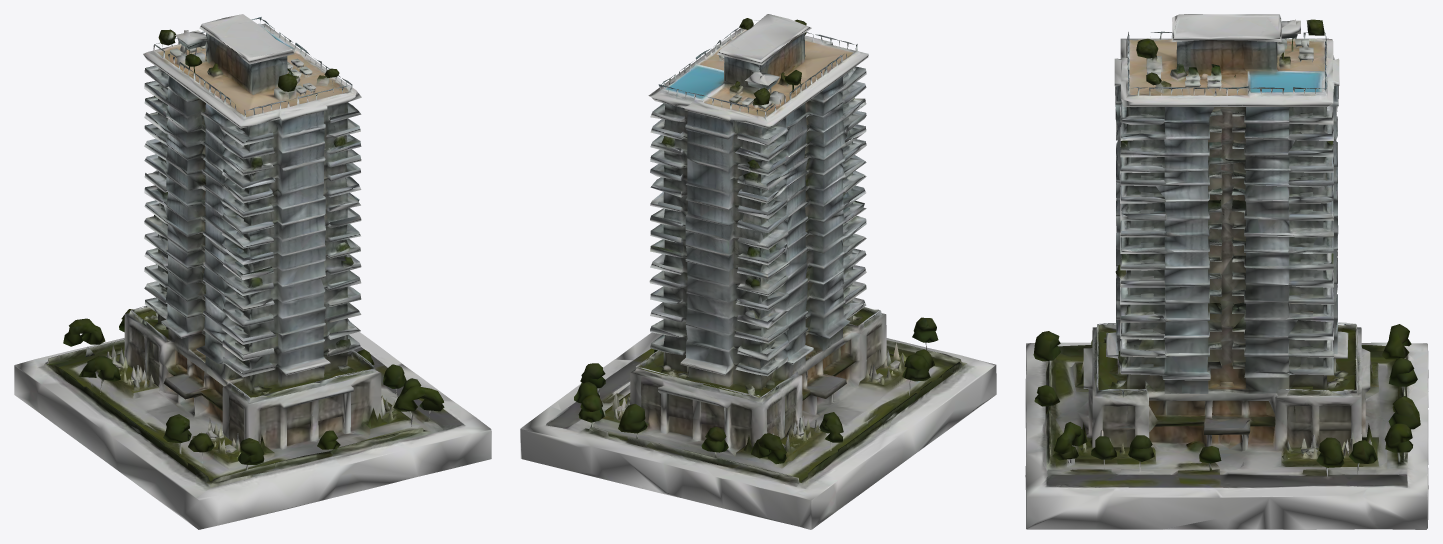
The model's file is home-penthouse-hf.glb.
3 views of the same model, side by side, from view 1: azimuth 30°, elevation 25°; view 2: azimuth 150°, elevation 25°; view 3: azimuth 270°, elevation 25° (orthographic). The views are drawn at different scales.
Parts seen in each view (by area): view 1: tripo_node_99955d42-7310-4b70-b350-6f5296d2071b; view 2: tripo_node_99955d42-7310-4b70-b350-6f5296d2071b; view 3: tripo_node_99955d42-7310-4b70-b350-6f5296d2071b.
Boxes of the visible parts, x1=… form: tripo_node_99955d42-7310-4b70-b350-6f5296d2071b: x1=14, y1=14, x2=491, y2=529; tripo_node_99955d42-7310-4b70-b350-6f5296d2071b: x1=520, y1=14, x2=996, y2=529; tripo_node_99955d42-7310-4b70-b350-6f5296d2071b: x1=1025, y1=14, x2=1428, y2=529.
Size of the model in its own units: 0.7825 by 1 by 0.8594.
Materials: 1 (1 with a texture image).
